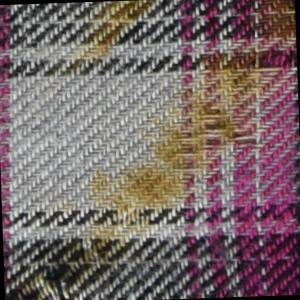Oil Stain: (86, 51, 267, 219), (3, 219, 160, 300), (62, 1, 161, 77), (257, 1, 297, 44)
